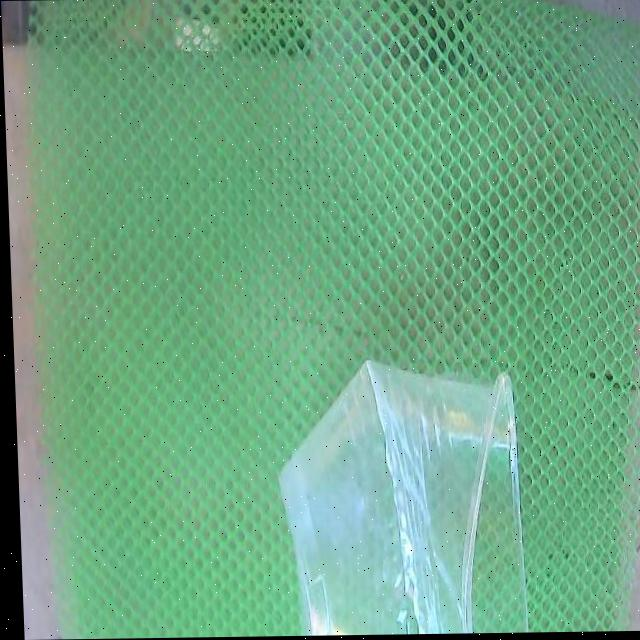cup: (275, 361, 522, 637)
